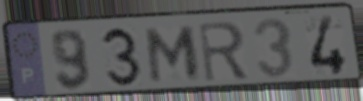3: (252, 16, 297, 81), (101, 25, 145, 91)
4: (308, 13, 349, 77)
9: (49, 27, 93, 93)
M: (145, 25, 202, 86)
R: (196, 20, 252, 85)
